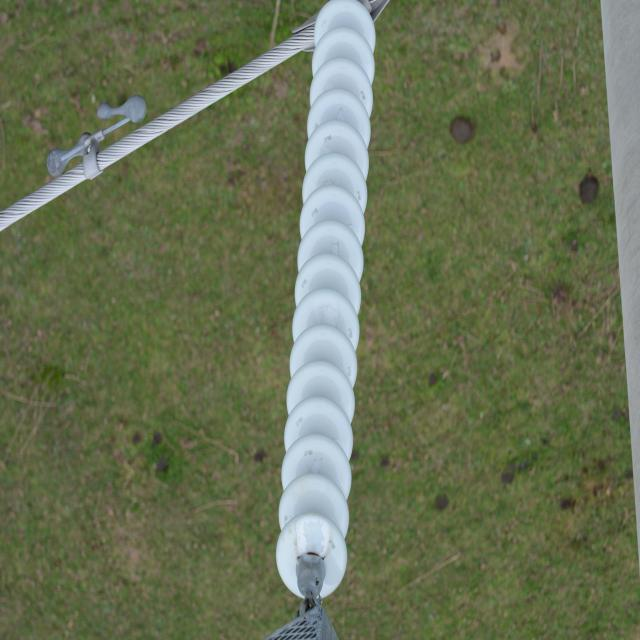insulator: (276, 5, 376, 601)
